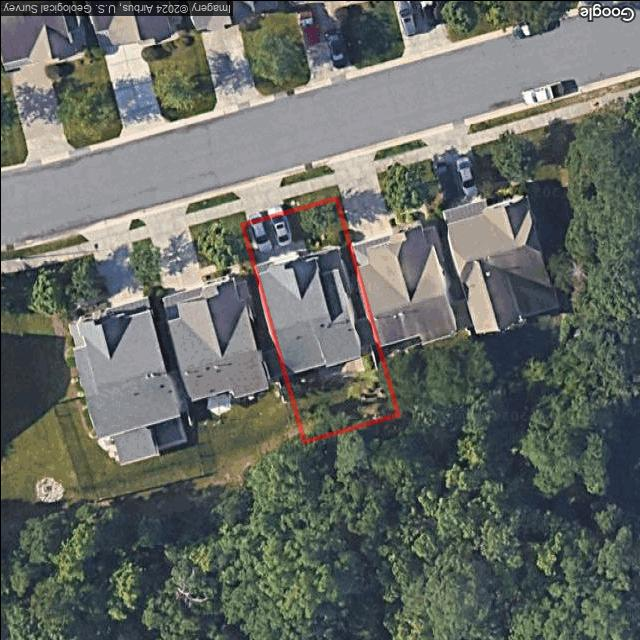Driveway: (245, 211, 309, 265)
Extra-Driveway: (233, 177, 284, 221)
Extra-Lawn: (283, 186, 336, 212), (280, 164, 327, 186), (236, 212, 248, 225), (228, 191, 239, 201)
Extra-Sidewalk: (280, 174, 332, 198)
House: (254, 244, 375, 377)
Lawn: (242, 198, 397, 440)
Other: (314, 355, 368, 389), (369, 350, 379, 372)
Sidewalk: (230, 198, 243, 212)
